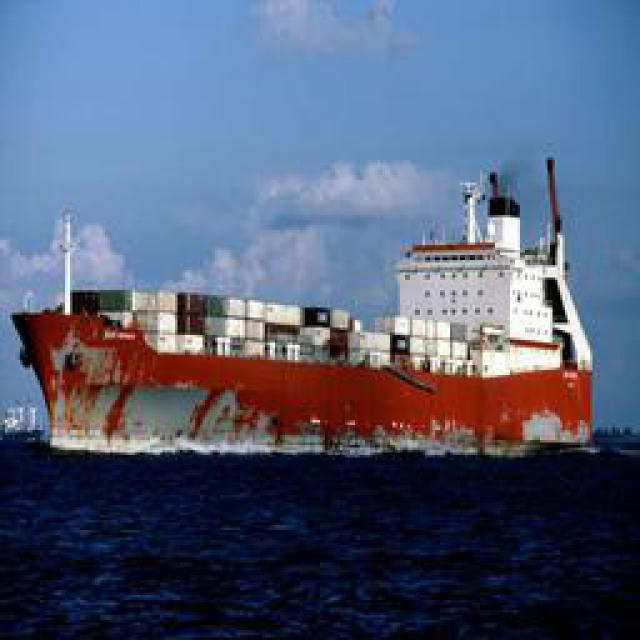Ship: (26, 144, 606, 467)
